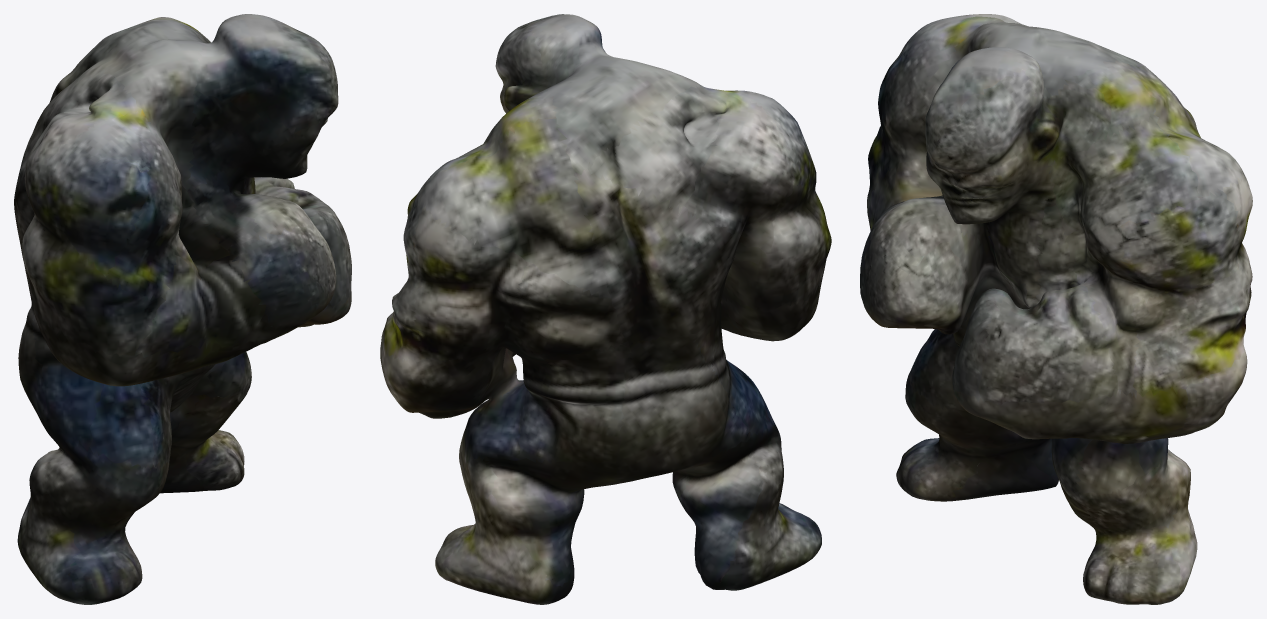
The model's file is granite_colossus.glb.
3 renders of one model, left to right at view 1: azimuth 30°, elevation 25°; view 2: azimuth 150°, elevation 25°; view 3: azimuth 270°, elevation 25°, orthographic. The views are drawn at different scales.
Parts seen in each view (by area): view 1: tripo_node_3538ce8f-3bdd-46a9-8e4e-7900122a73f5; view 2: tripo_node_3538ce8f-3bdd-46a9-8e4e-7900122a73f5; view 3: tripo_node_3538ce8f-3bdd-46a9-8e4e-7900122a73f5.
Boxes of the visible parts, x1=… form: tripo_node_3538ce8f-3bdd-46a9-8e4e-7900122a73f5: x1=14, y1=14, x2=351, y2=604; tripo_node_3538ce8f-3bdd-46a9-8e4e-7900122a73f5: x1=380, y1=14, x2=831, y2=604; tripo_node_3538ce8f-3bdd-46a9-8e4e-7900122a73f5: x1=860, y1=14, x2=1252, y2=604.
Bounding box in the file's own units: 0.5436 × 0.7713 × 0.5171.
1 material, 1 textured.
